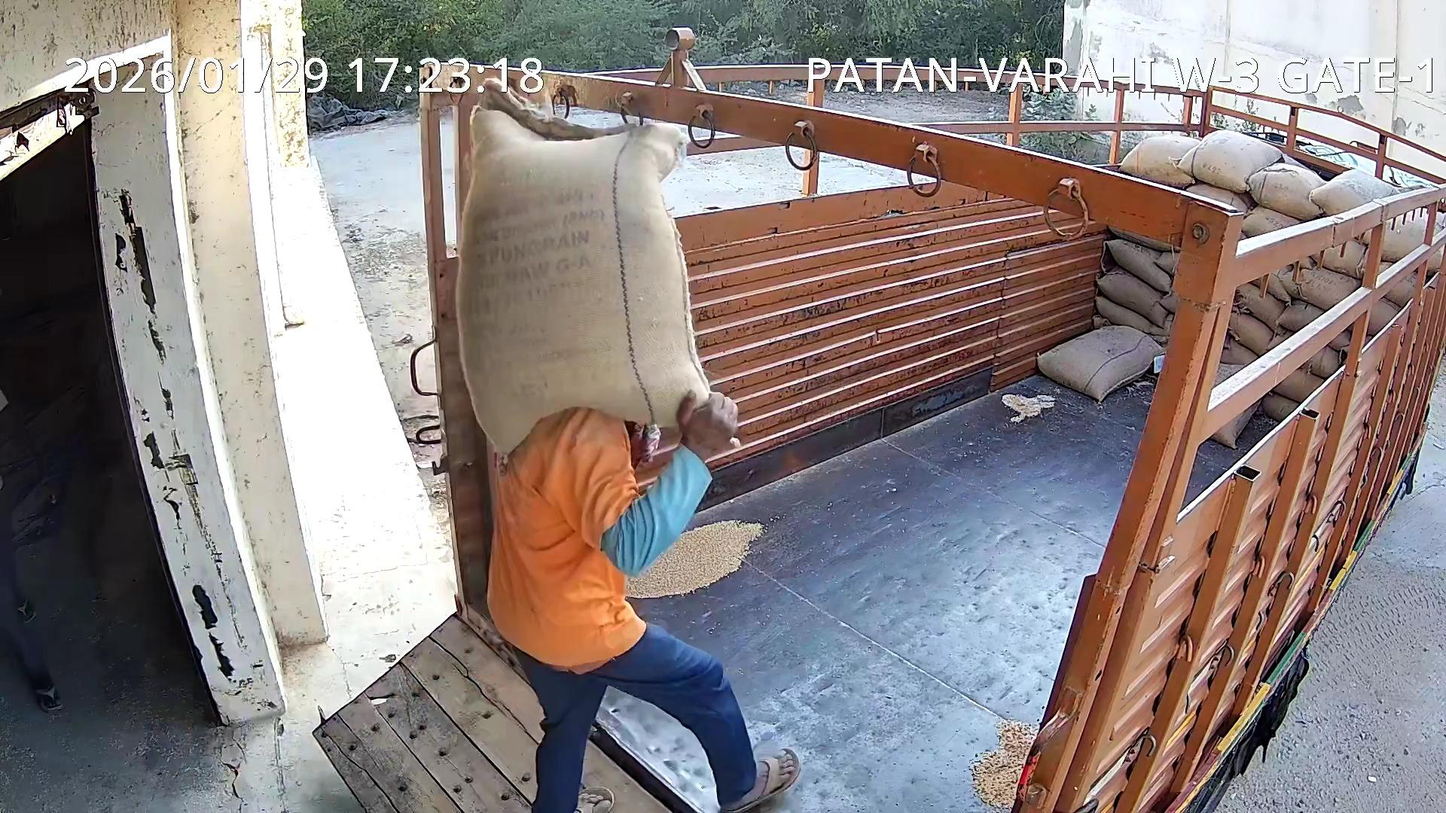Sack: (454, 81, 709, 454)
